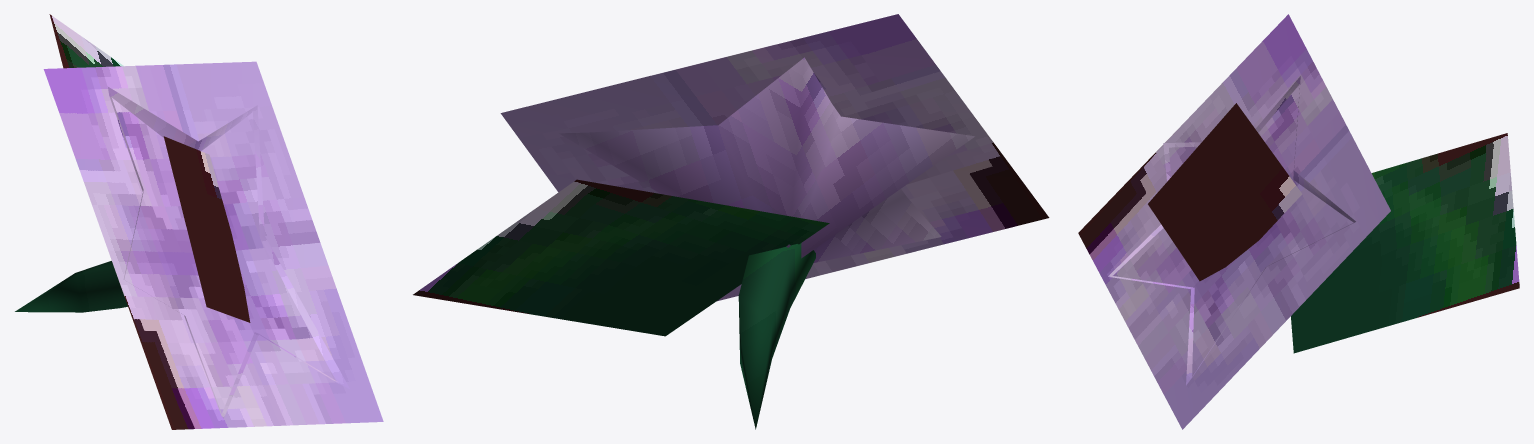
File: flw_violet_wt_cap.dae
3 views of the same model, side by side, from view 1: azimuth 30°, elevation 25°; view 2: azimuth 150°, elevation 25°; view 3: azimuth 270°, elevation 25° (orthographic). The views are drawn at different scales.
Parts seen in each view (by area): view 1: flw_violet_wt_cap; view 2: flw_violet_wt_cap; view 3: flw_violet_wt_cap.
Part boxes in pixels (box(x1,y1,x2,y2)): flw_violet_wt_cap: box(15, 14, 383, 429); flw_violet_wt_cap: box(413, 14, 1049, 429); flw_violet_wt_cap: box(1078, 14, 1519, 429).
Bounding box in the file's own units: 6.84 × 8.84 × 11.58.
Materials: 1 (1 with a texture image).
